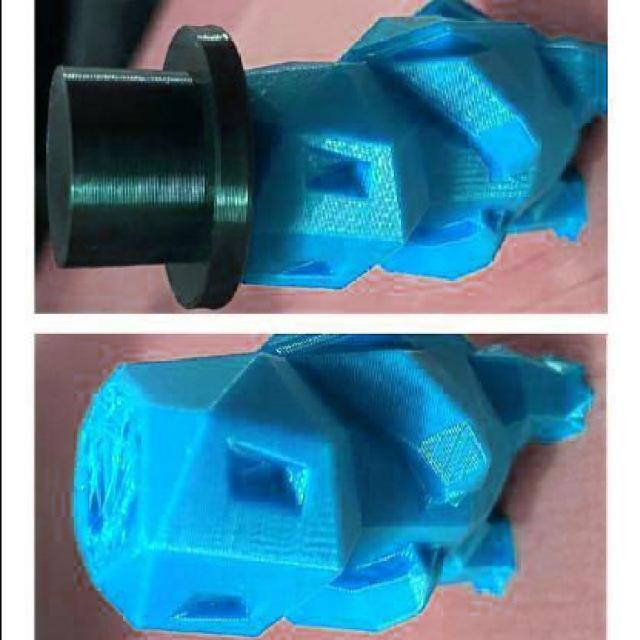spaghetti: (76, 381, 142, 566)
